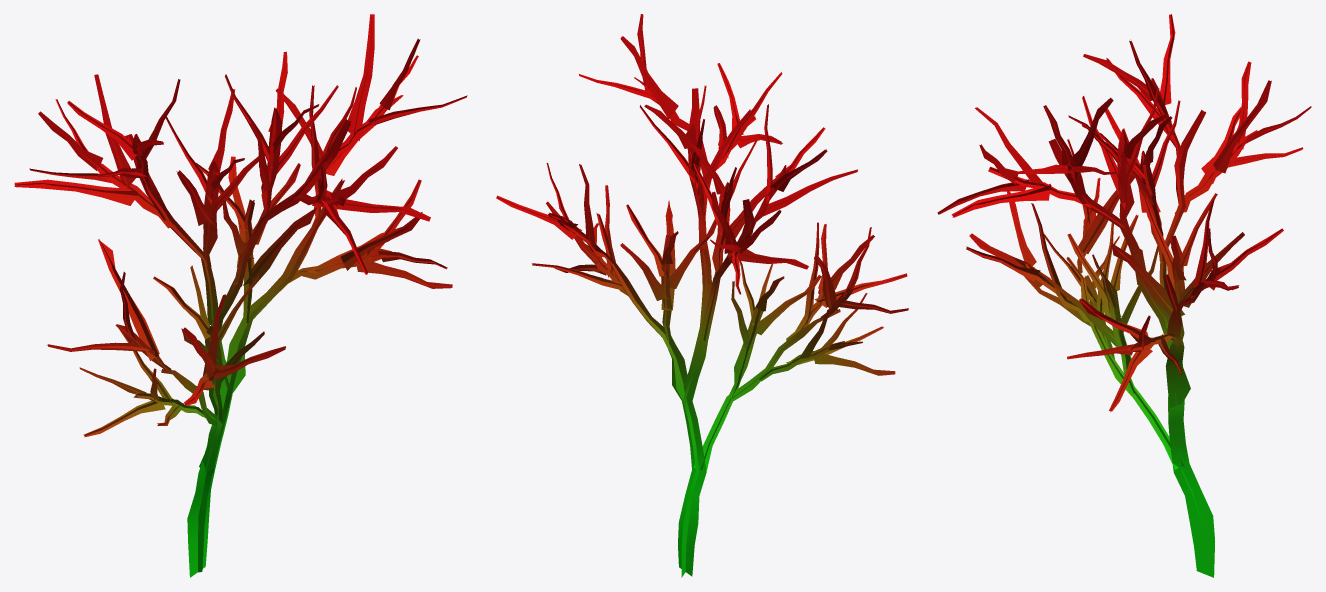
Rendered from Rose Hip_LOD3_Var11.fbx.
3 views of the same model, side by side, from view 1: azimuth 30°, elevation 25°; view 2: azimuth 150°, elevation 25°; view 3: azimuth 270°, elevation 25° (orthographic). The views are drawn at different scales.
Parts seen in each view (by area): view 1: _980c_Var11_LOD3; view 2: _980c_Var11_LOD3; view 3: _980c_Var11_LOD3.
Boxes of the visible parts, left/top/right/bottom form: _980c_Var11_LOD3: left=14, top=14, right=467, bottom=577; _980c_Var11_LOD3: left=496, top=14, right=908, bottom=577; _980c_Var11_LOD3: left=937, top=14, right=1311, bottom=577.
Size of the model in its own units: 60.08 by 78.95 by 49.84.
